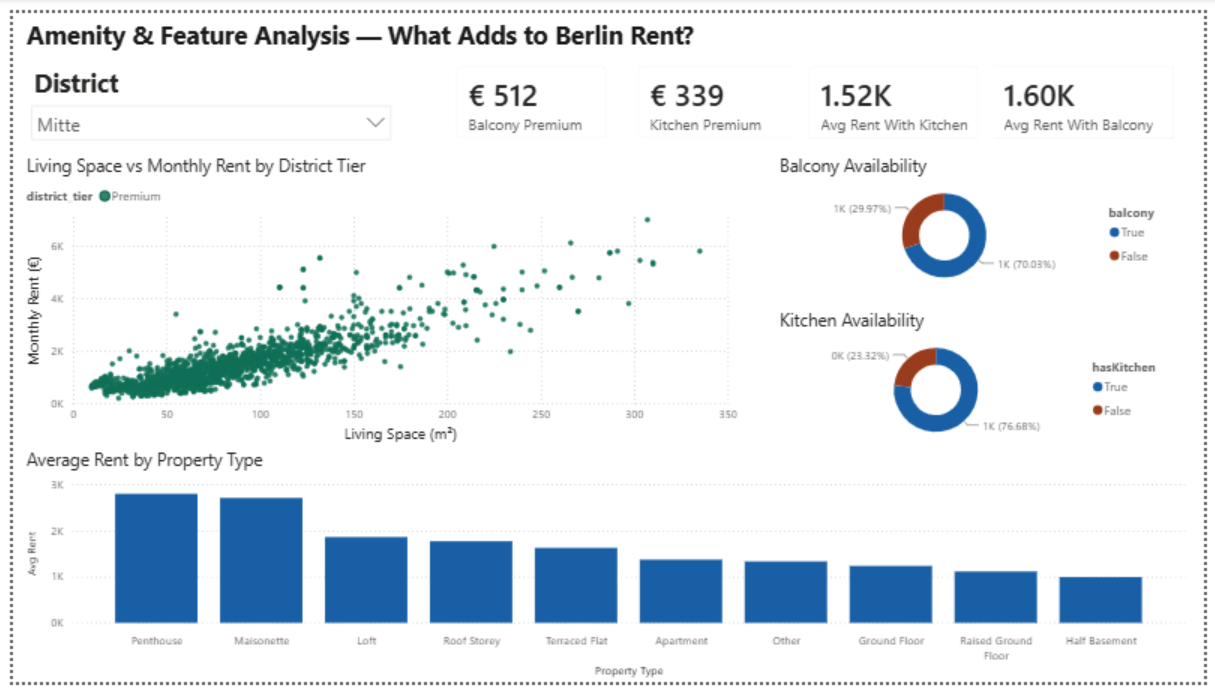

This screenshot's page, from the dashboard's own definition file:
{"tool":"powerbi","page":{"name":"Amenity Analysis","canvas":[1280,720],"ordinal":2},"visuals":[{"type":"textbox","box":[10,0,900,55],"z":0},{"type":"slicer","fields":{"Values":["dim_Bezirk.bezirk"]},"box":[10,51.7,406.7,88.3],"z":1000},{"type":"cardVisual","fields":{"Data":["fact_listings.Balcony Premium"]},"box":[460,40,195,111.7],"z":2000},{"type":"cardVisual","fields":{"Data":["fact_listings.Kitchen Premium"]},"box":[655,40,203.3,111.7],"z":3000},{"type":"cardVisual","fields":{"Data":["fact_listings.Avg Rent With Balcony"]},"box":[1036,40,230,112],"z":4000},{"type":"cardVisual","fields":{"Data":["fact_listings.Avg Rent With Kitchen"]},"box":[838,40,216,112],"z":5000},{"type":"clusteredColumnChart","title":"Average Rent by Property Type","fields":{"Category":["dim_PropertyType.type_display"],"Y":["fact_listings.Avg Rent"]},"box":[10,468,1256,252],"z":6000},{"type":"donutChart","title":"Balcony Availability","fields":{"Category":["fact_listings.balcony"],"Y":["fact_listings.Total Listings"]},"box":[820,152,432,150],"z":7000},{"type":"donutChart","title":"Kitchen Availability","fields":{"Y":["fact_listings.Total Listings"],"Category":["fact_listings.hasKitchen"]},"box":[820,317,432,150],"z":8000},{"type":"scatterChart","title":"Living Space vs Monthly Rent by District Tier","fields":{"X":["Avg(fact_listings.livingSpace)"],"Y":["Avg(fact_listings.baseRent)"],"Category":["fact_listings.scoutId"],"Series":["fact_listings.district_tier"]},"box":[10,152,774,316],"z":9000}]}

Visuals, with their boxes in screenshot pixels (x1, y1, x2, y2), scaled from the page's 1280x720 canvas onto the 1215x693 screenshot:
textbox: Rect(9, 0, 864, 53)
slicer - dim_Bezirk.bezirk: Rect(9, 50, 396, 135)
cardVisual - fact_listings.Balcony Premium: Rect(437, 38, 622, 146)
cardVisual - fact_listings.Kitchen Premium: Rect(622, 38, 815, 146)
cardVisual - fact_listings.Avg Rent With Balcony: Rect(983, 38, 1202, 146)
cardVisual - fact_listings.Avg Rent With Kitchen: Rect(795, 38, 1000, 146)
"Average Rent by Property Type" clusteredColumnChart: Rect(9, 450, 1202, 692)
"Balcony Availability" donutChart: Rect(778, 146, 1188, 291)
"Kitchen Availability" donutChart: Rect(778, 305, 1188, 449)
"Living Space vs Monthly Rent by District Tier" scatterChart: Rect(9, 146, 744, 450)
